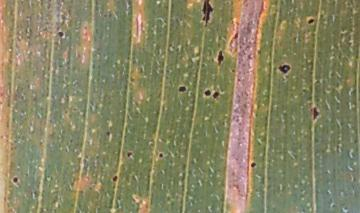tarspot: (197, 1, 217, 30), (307, 101, 322, 125), (213, 47, 227, 70), (275, 59, 293, 76), (174, 81, 188, 97), (200, 85, 213, 102), (212, 85, 222, 105), (246, 158, 260, 171), (109, 174, 123, 186), (54, 27, 66, 40), (155, 148, 166, 161), (9, 174, 20, 186), (122, 148, 134, 159), (103, 127, 114, 138), (305, 16, 316, 27)
